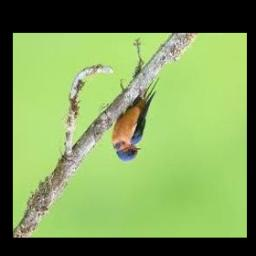Swallow: (112, 75, 159, 162)
